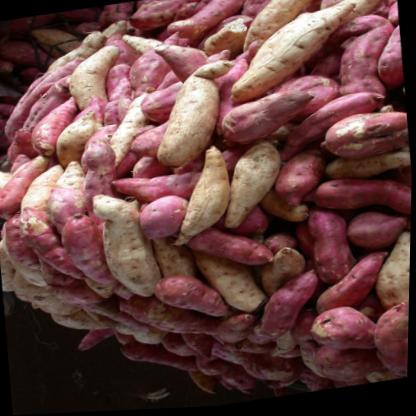---: (202, 89, 316, 153), (307, 170, 413, 234), (317, 107, 411, 173), (254, 262, 326, 342), (306, 251, 390, 319), (149, 267, 229, 327), (99, 166, 202, 209), (65, 208, 112, 302), (131, 195, 193, 251), (298, 303, 360, 356), (376, 297, 411, 384)
